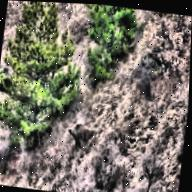boar: (65, 117, 105, 152)
